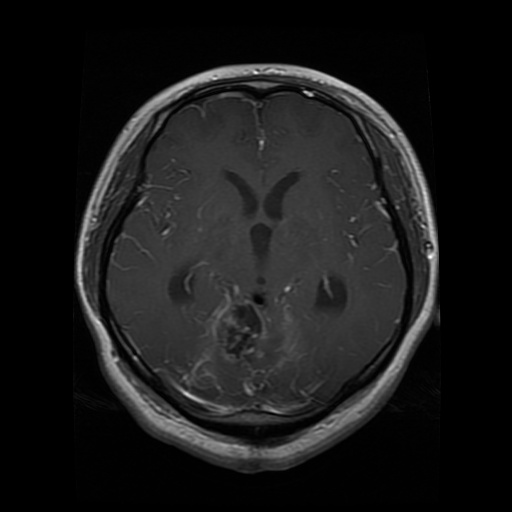glioma: (175, 272, 326, 404)
